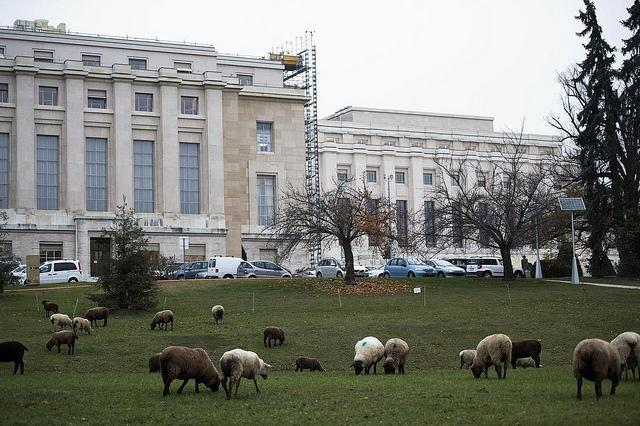car: (466, 256, 526, 280), (383, 256, 439, 278), (38, 258, 82, 284), (237, 261, 292, 278), (426, 260, 466, 278), (174, 261, 208, 280), (315, 258, 346, 278), (5, 265, 27, 284), (368, 264, 385, 278), (354, 259, 368, 276), (195, 272, 215, 279), (302, 270, 317, 278)
truck: (207, 256, 245, 278)
